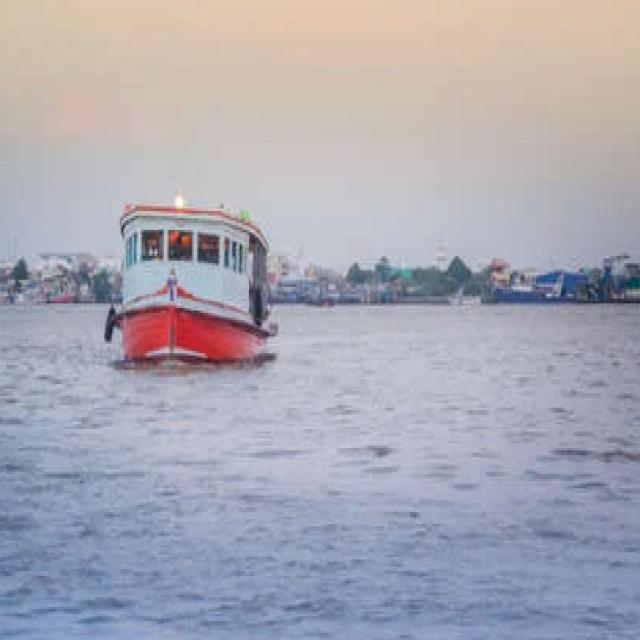houseboat: (101, 178, 296, 400)
